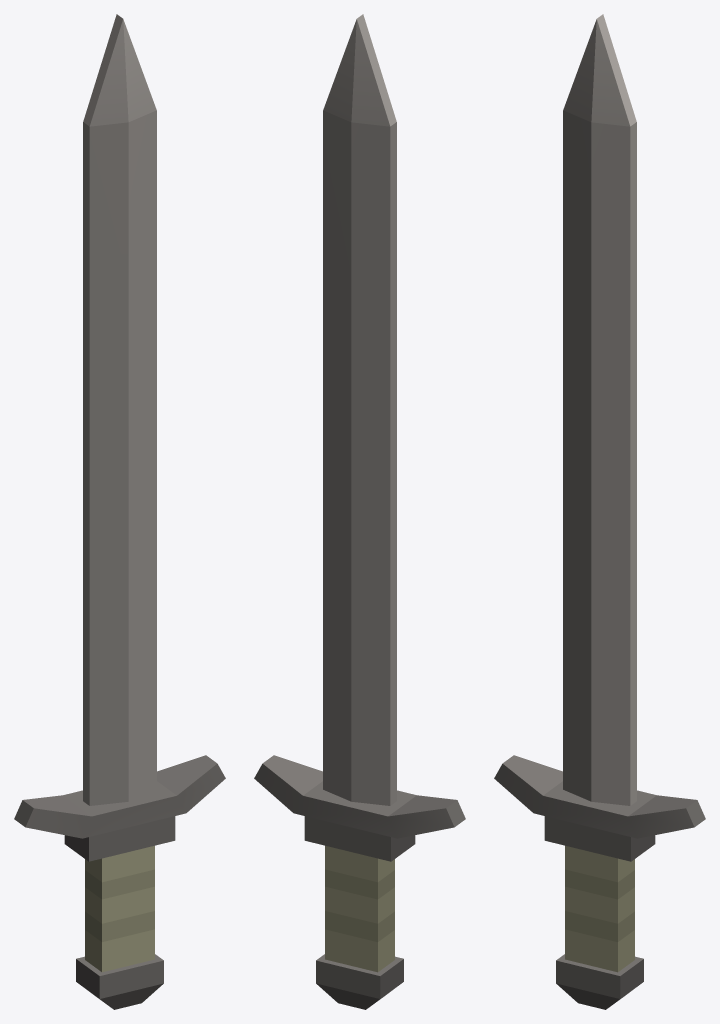
File: SF_Wep_Human_Longsword_01.fbx
3 renders of one model, left to right at view 1: azimuth 30°, elevation 25°; view 2: azimuth 150°, elevation 25°; view 3: azimuth 330°, elevation 25°, orthographic.
Visible parts, largest first — view 1: SF_Wep_Human_Longsword_01; view 2: SF_Wep_Human_Longsword_01; view 3: SF_Wep_Human_Longsword_01.
Boxes of the visible parts, x1,y1,x2,y2 form: SF_Wep_Human_Longsword_01: [14, 14, 225, 1009]; SF_Wep_Human_Longsword_01: [254, 14, 465, 1009]; SF_Wep_Human_Longsword_01: [494, 14, 705, 1009].
Size of the model in its own units: 0.4703 by 2.21 by 0.1178.
